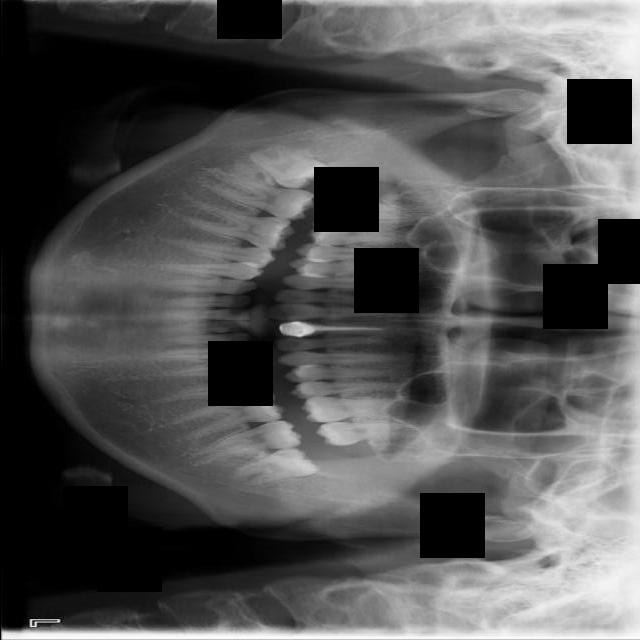52: (243, 204, 298, 260), (233, 393, 282, 423), (270, 321, 323, 338)
73: (319, 322, 394, 335), (88, 596, 101, 602)
BioHorizons Implant: (315, 420, 429, 447)
Biomet 3i Implant: (230, 441, 320, 491)
Blue Sky Bio Implant: (199, 417, 304, 459)
Caries: (323, 192, 456, 229)
Implant: (208, 172, 316, 226)
Keystone Dental Implant: (241, 133, 330, 201)
